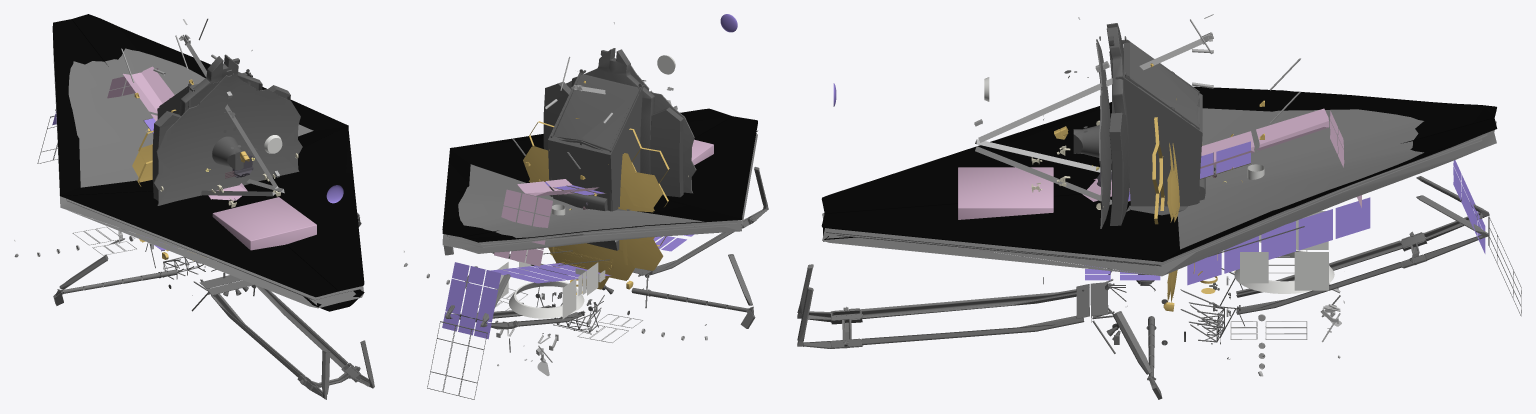
File: jwst.glb
3 renders of one model, left to right at view 1: azimuth 30°, elevation 25°; view 2: azimuth 150°, elevation 25°; view 3: azimuth 270°, elevation 25°, orthographic. The views are drawn at different scales.
Visible parts, largest first — view 1: Object_64, Object_20, Object_66, Object_10, Object_16, Object_14, Object_46, Object_8, Object_54; view 2: Object_16, Object_64, Object_66, Object_20, Object_46, Object_54, Object_10, Object_12, Object_14, Object_68, Object_62; view 3: Object_64, Object_66, Object_20, Object_16, Object_10, Object_54, Object_12, Object_14, Object_8, Object_68, Object_46, Object_76 (+1 smaller).
Part boxes in pixels (x1,y1,x2,y2): Object_64: (52, 14, 364, 311); Object_20: (37, 50, 374, 399); Object_66: (53, 40, 363, 308); Object_10: (107, 66, 316, 250); Object_16: (145, 54, 290, 296); Object_14: (14, 18, 278, 257); Object_46: (132, 79, 249, 260); Object_8: (14, 19, 284, 245); Object_54: (52, 111, 343, 250); Object_16: (535, 48, 683, 327); Object_64: (442, 108, 757, 242); Object_66: (442, 133, 757, 253); Object_20: (427, 22, 768, 399); Object_46: (523, 80, 663, 294); Object_54: (442, 14, 737, 339); Object_10: (494, 139, 713, 266); Object_12: (494, 55, 675, 319); Object_14: (404, 57, 707, 366); Object_68: (449, 224, 729, 247); Object_62: (529, 121, 669, 246); Object_64: (821, 86, 1497, 261); Object_66: (822, 108, 1496, 276); Object_20: (797, 17, 1521, 399); Object_16: (1073, 23, 1244, 345); Object_10: (958, 108, 1361, 251); Object_54: (833, 83, 1485, 285); Object_12: (984, 77, 1334, 293); Object_14: (978, 19, 1340, 376); Object_8: (974, 14, 1344, 357); Object_68: (836, 138, 1482, 266); Object_46: (1054, 63, 1264, 311); Object_76: (1128, 141, 1250, 201).
Bounding box in the file's own units: 669344 × 558742 × 1091924.
